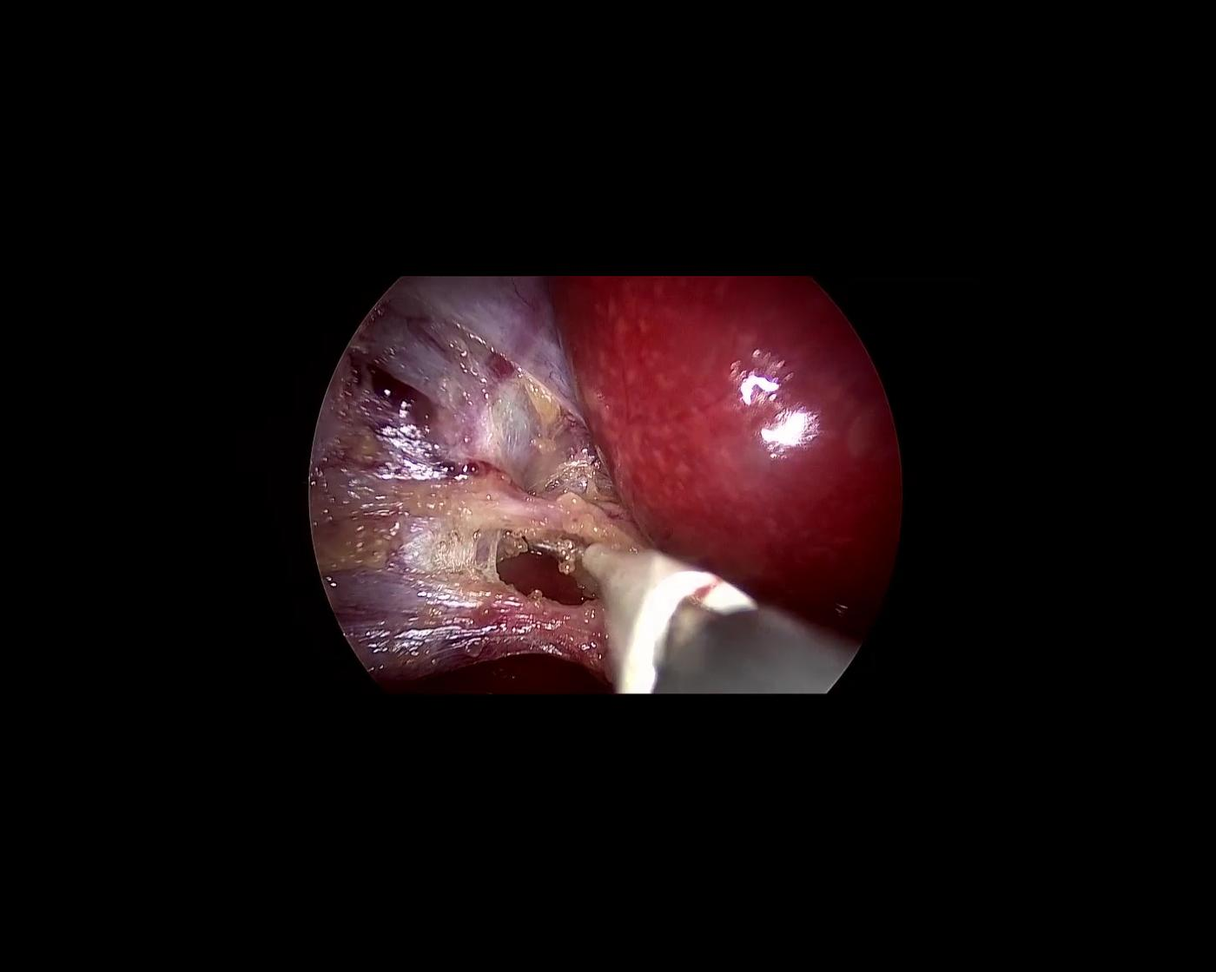Cautery: (529, 541, 857, 697)
Gallbladder: (234, 222, 618, 716)
Liver: (543, 242, 911, 611)
